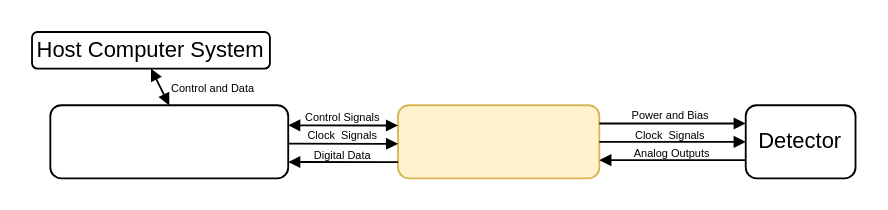
The diagram is 888 pixels wide and 210 high, and some of its shapes have lost their labels. Each missing label, with the box of its shape:
Digital I/O and Sequencer: (48, 103, 288, 178)
Front-End Electronics: (396, 103, 599, 178)
